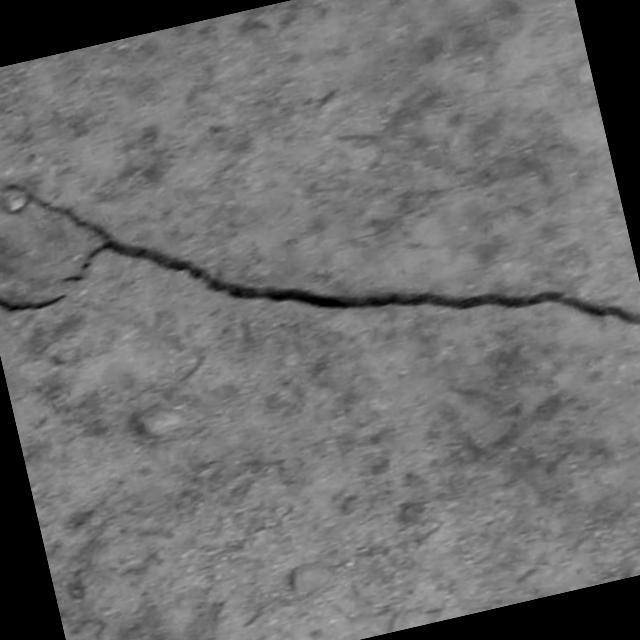crack: (0, 47, 640, 550)
